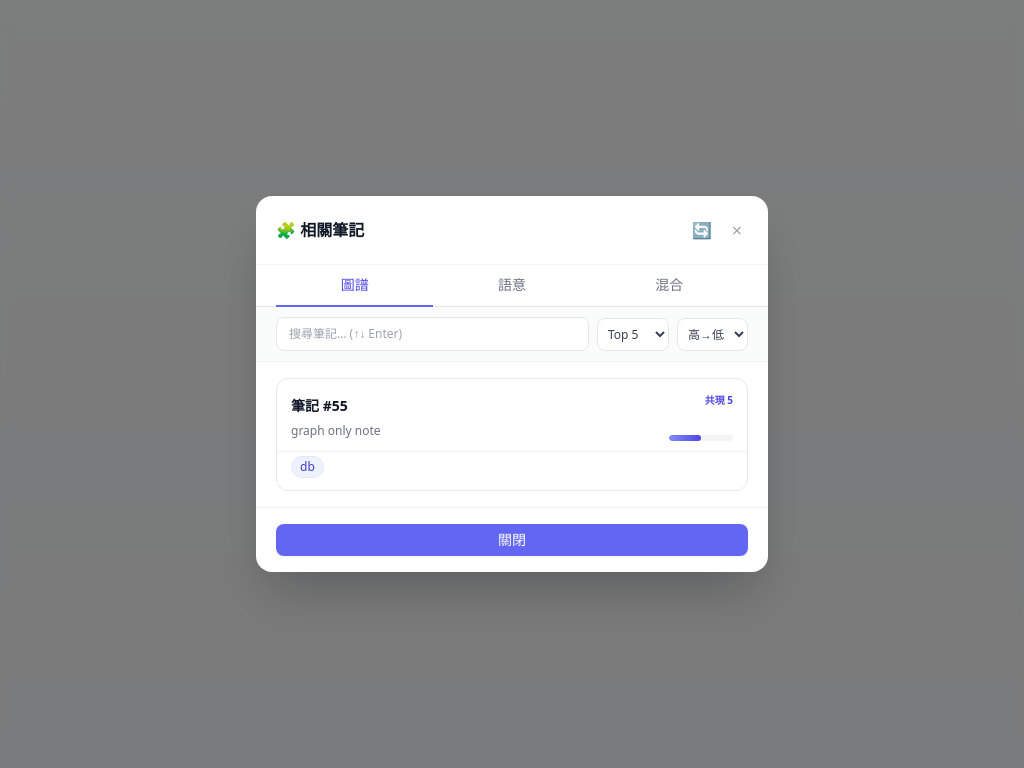
RelatedNotesPanel › H4 — graph-only item renders badge-graph but not badge-semantic
Check: the list item with test id "card-note-55" is shown, box 276,378 -> 748,491
Click the button "混合".
click(669, 286)  # box 591,265 -> 748,307
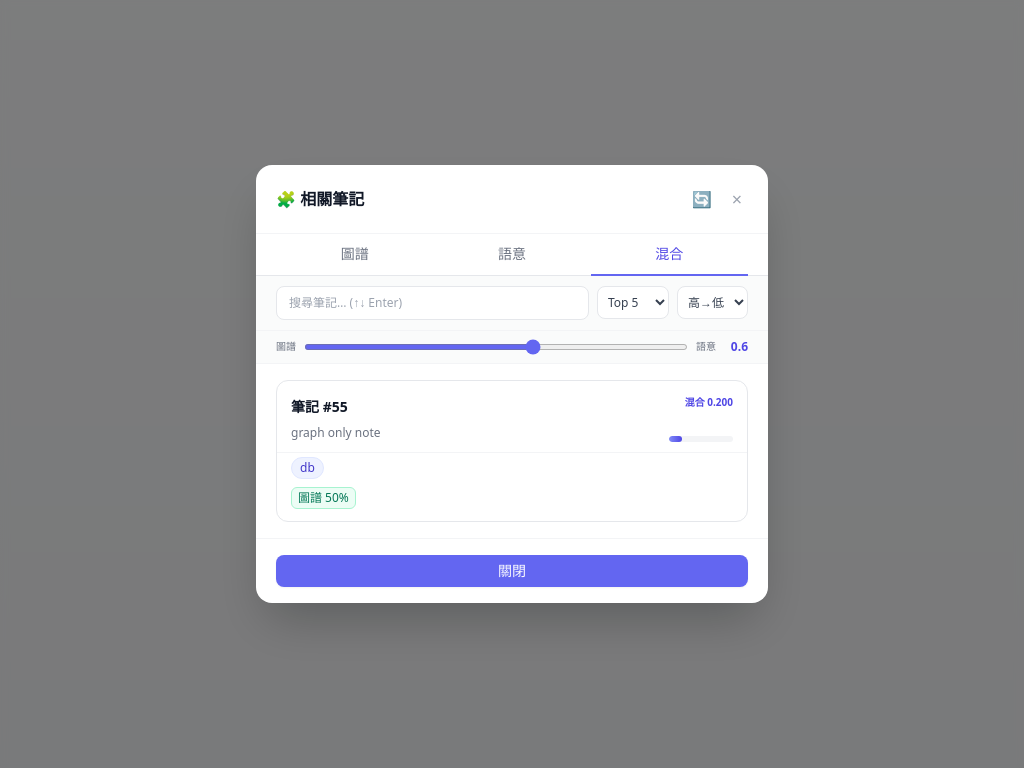
Check: the text "圖譜 50%" is shown, box 291,487 -> 356,509
